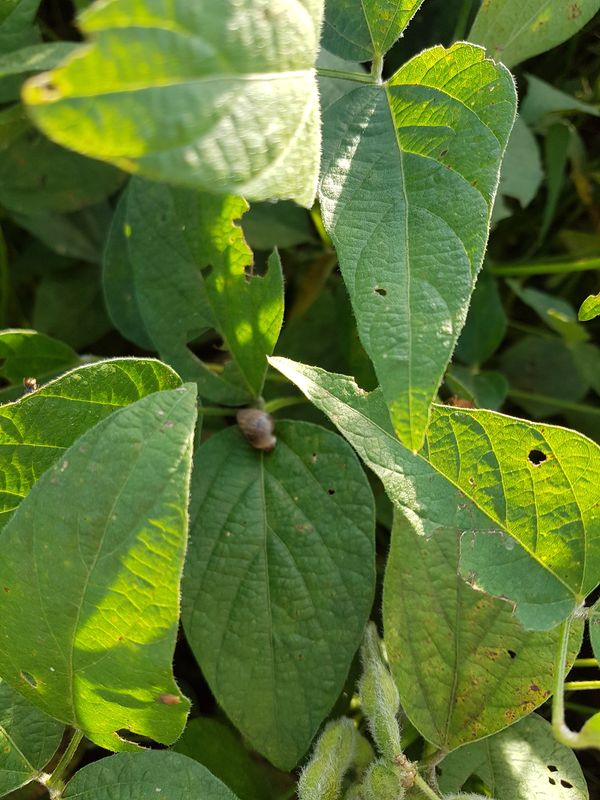Gastropoda: (225, 402, 288, 461)
